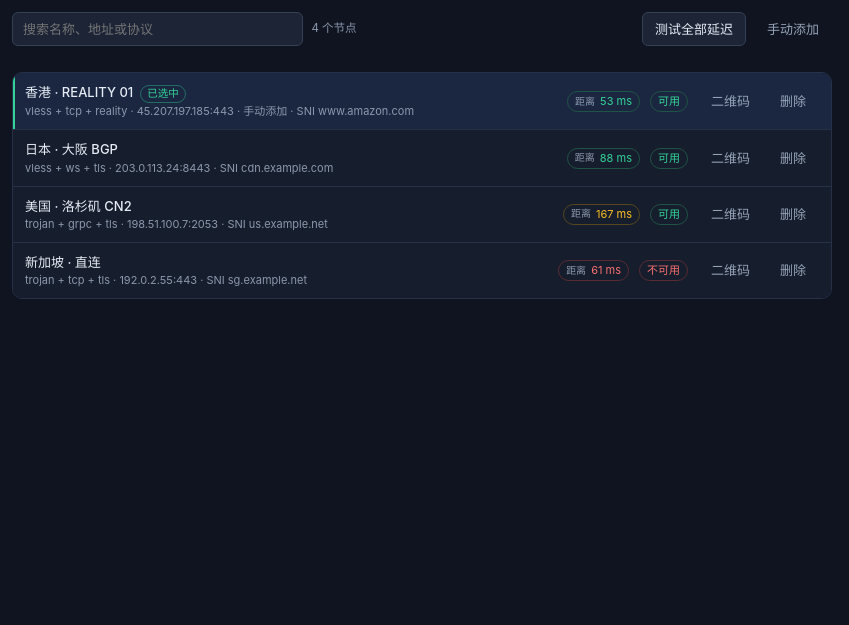
Scenario: task-151 · `run()` 失败时局部文案不编原因 › 后端**报错**（真实原因在横幅）⇒ 局部只陈述「没有生效」+ 指向横幅，不写「链接格式错」
Click the button "手动添加".
click(793, 29)  # box [754,12,832,46]
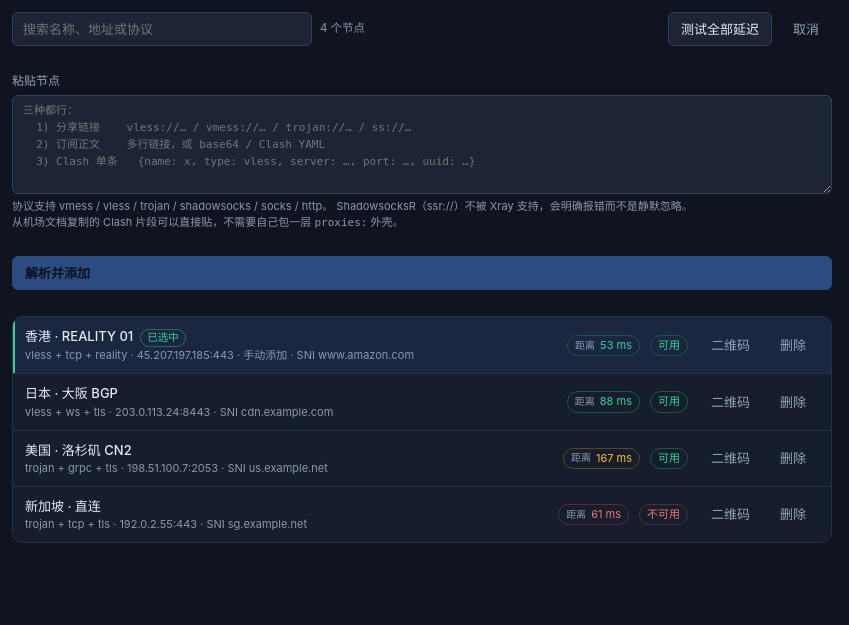
Replace the text in the text box with placeholder "三种都行" with "ssr://example.com" at [422, 144], box [12,95,832,194]
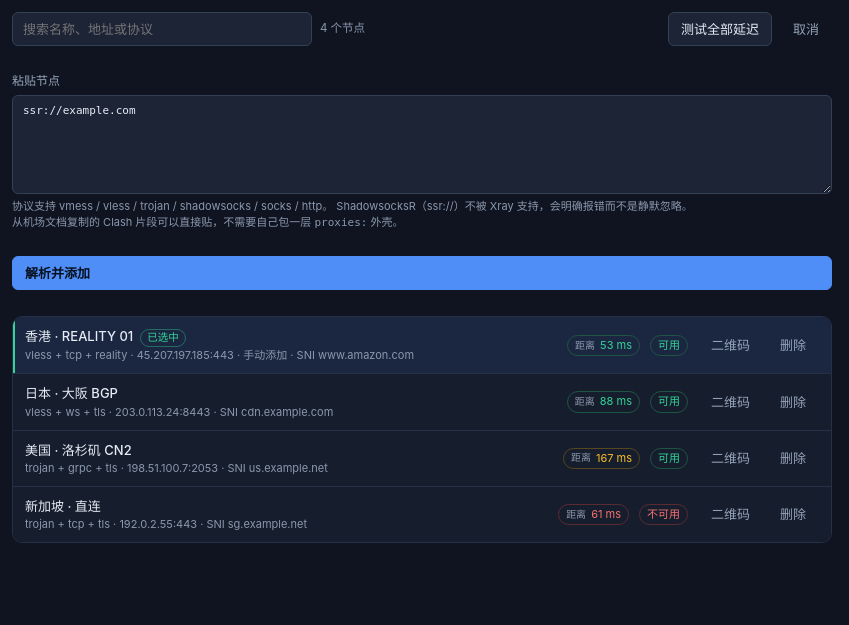
Click the button "解析并添加".
click(58, 273)  # box [12,256,832,290]
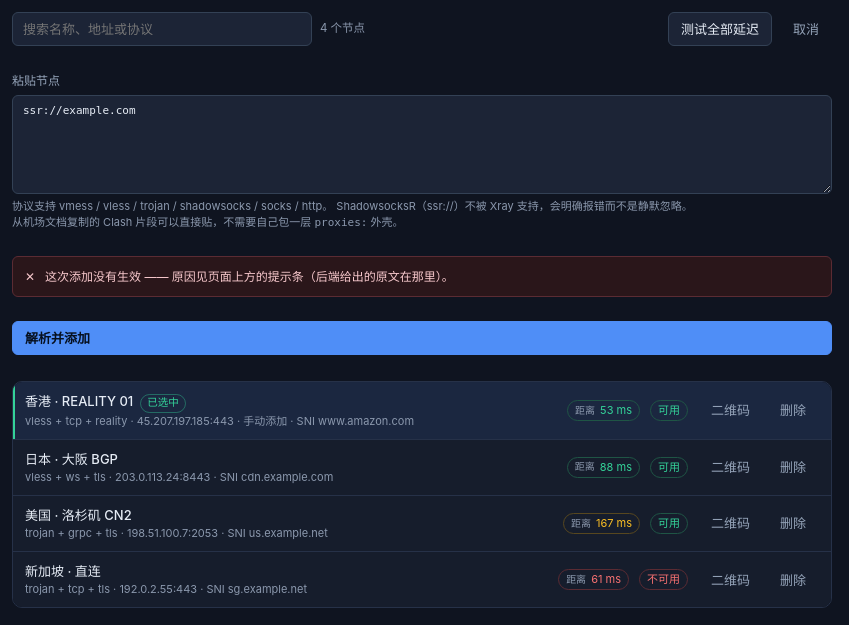
Expected: the element with class "banner--error" does not show "ShadowsocksR"
Expected: the message with class "banner--error" shows "没有生效", [45,269,454,284]
Expected: the message with class "banner--error" shows "提示条", [12,256,832,297]
